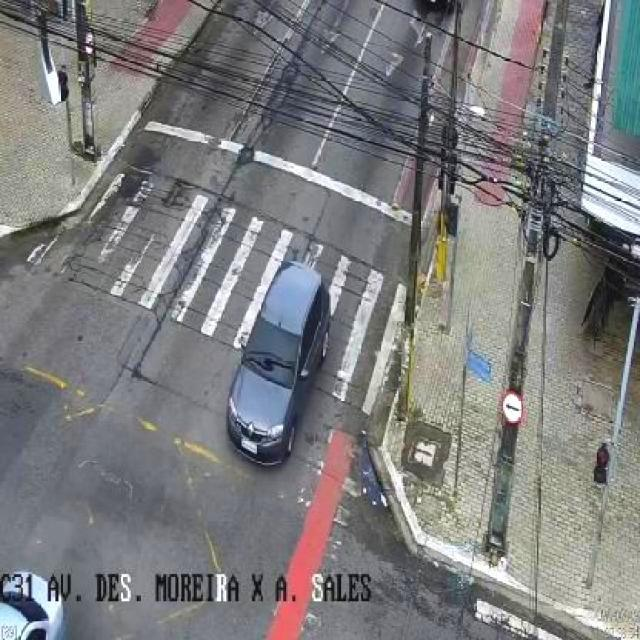Car: (228, 259, 331, 469), (0, 567, 72, 640)
